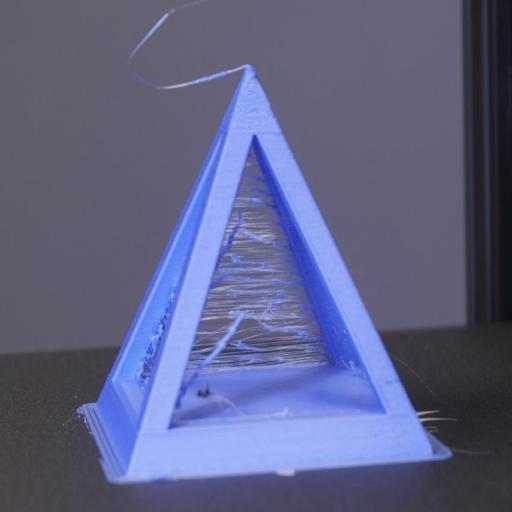stringing: (190, 143, 334, 363), (121, 2, 249, 97), (182, 308, 246, 413), (137, 292, 174, 390)
